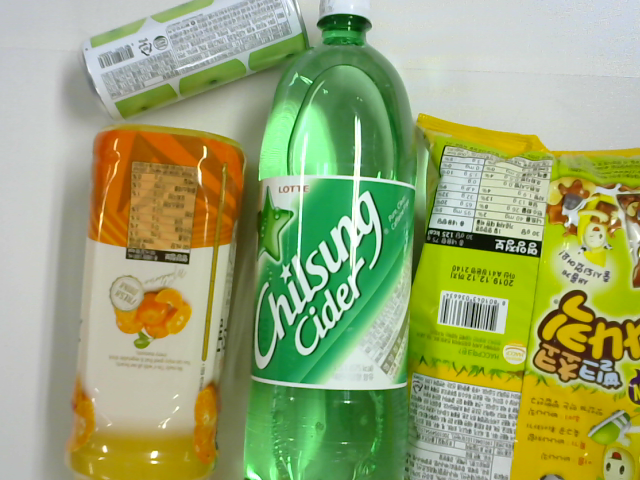Banana_Kick: (391, 120, 640, 475)
Chilseong_Cider_1.5L: (235, 2, 421, 480)
Demisoda_Apple_Can_250ml: (81, 4, 319, 124)
Jeju_Tangerine_1.5L: (63, 124, 233, 480)
